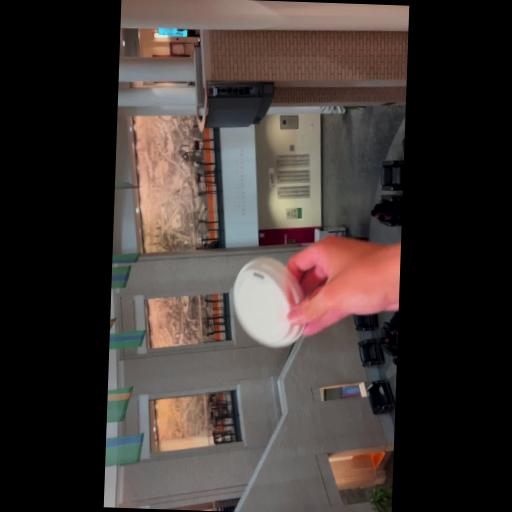lp_cup_lids: (230, 254, 312, 348)
